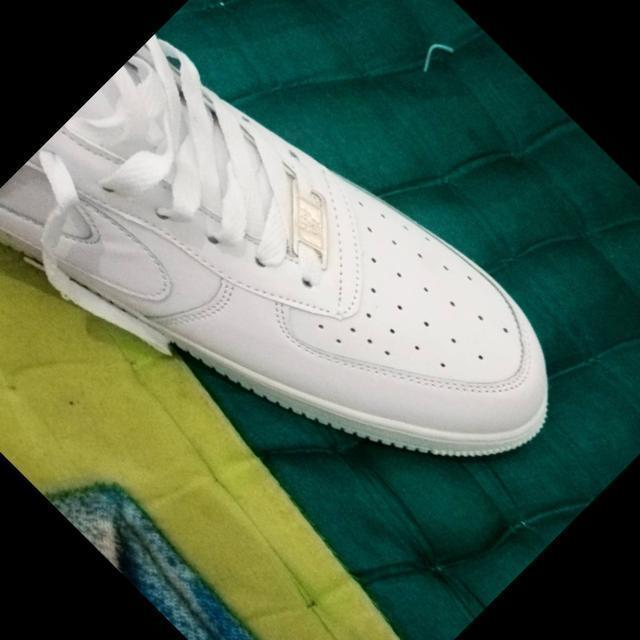nike fake air force: (0, 0, 598, 617)
